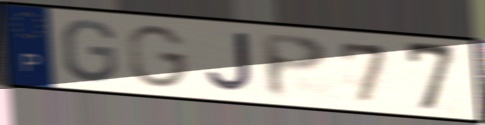7: (403, 38, 461, 114), (335, 41, 391, 104)
G: (125, 23, 192, 90), (60, 18, 120, 85)
J: (204, 31, 255, 95)
P: (257, 31, 331, 101)
